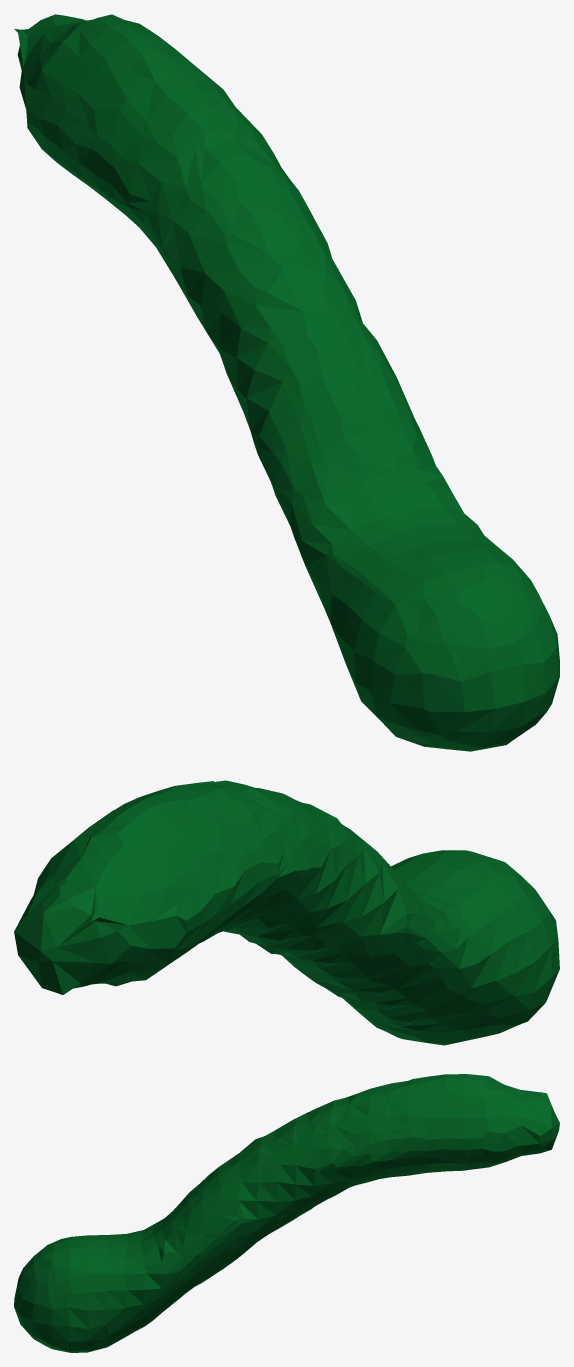
Rendered from fluid_3.fbx.
3 renders of one model, top to bottom at view 1: azimuth 30°, elevation 25°; view 2: azimuth 150°, elevation 25°; view 3: azimuth 270°, elevation 25°, orthographic. The views are drawn at different scales.
Parts seen in each view (by area): view 1: Cube; view 2: Cube; view 3: Cube.
Boxes of the visible parts, x1=… form: Cube: x1=14, y1=14, x2=559, y2=751; Cube: x1=14, y1=780, x2=559, y2=1045; Cube: x1=14, y1=1074, x2=559, y2=1352.
Bounding box in the file's own units: 41.96 × 103 × 190.
